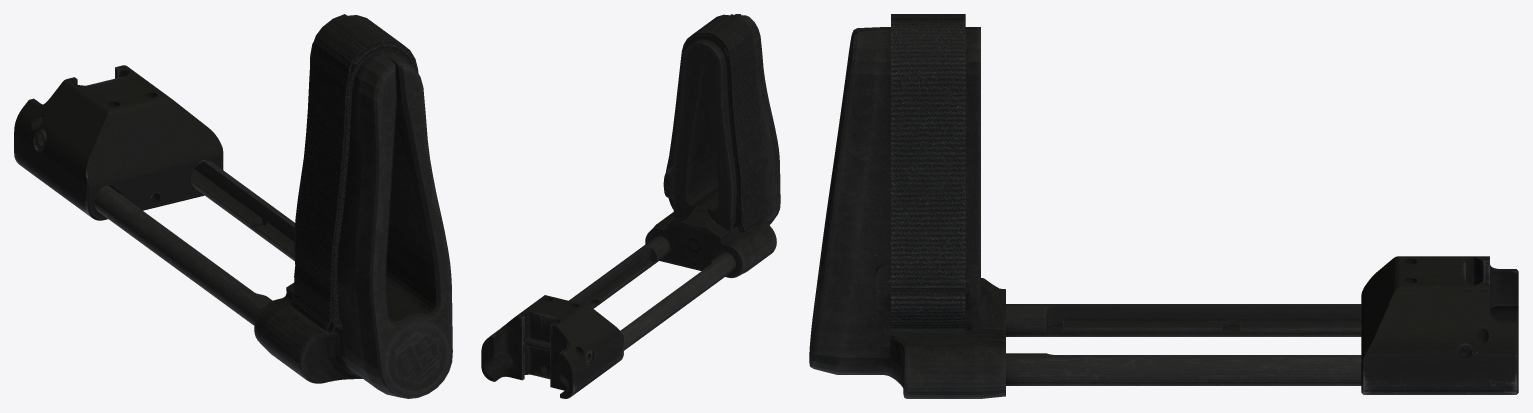
3 views of the same model, side by side, from view 1: azimuth 30°, elevation 25°; view 2: azimuth 150°, elevation 25°; view 3: azimuth 270°, elevation 25° (orthographic). The views are drawn at different scales.
Visible parts, largest first — view 1: TW_6761496fe2cf1419500357e9_PZ_Import; view 2: TW_6761496fe2cf1419500357e9_PZ_Import; view 3: TW_6761496fe2cf1419500357e9_PZ_Import.
Part boxes in pixels (x1,y1,x2,y2): TW_6761496fe2cf1419500357e9_PZ_Import: (14,14,452,398); TW_6761496fe2cf1419500357e9_PZ_Import: (481,14,780,398); TW_6761496fe2cf1419500357e9_PZ_Import: (809,14,1518,398).
Size of the model in its own units: 0.033 by 0.1314 by 0.074.
1 material, 1 textured.
